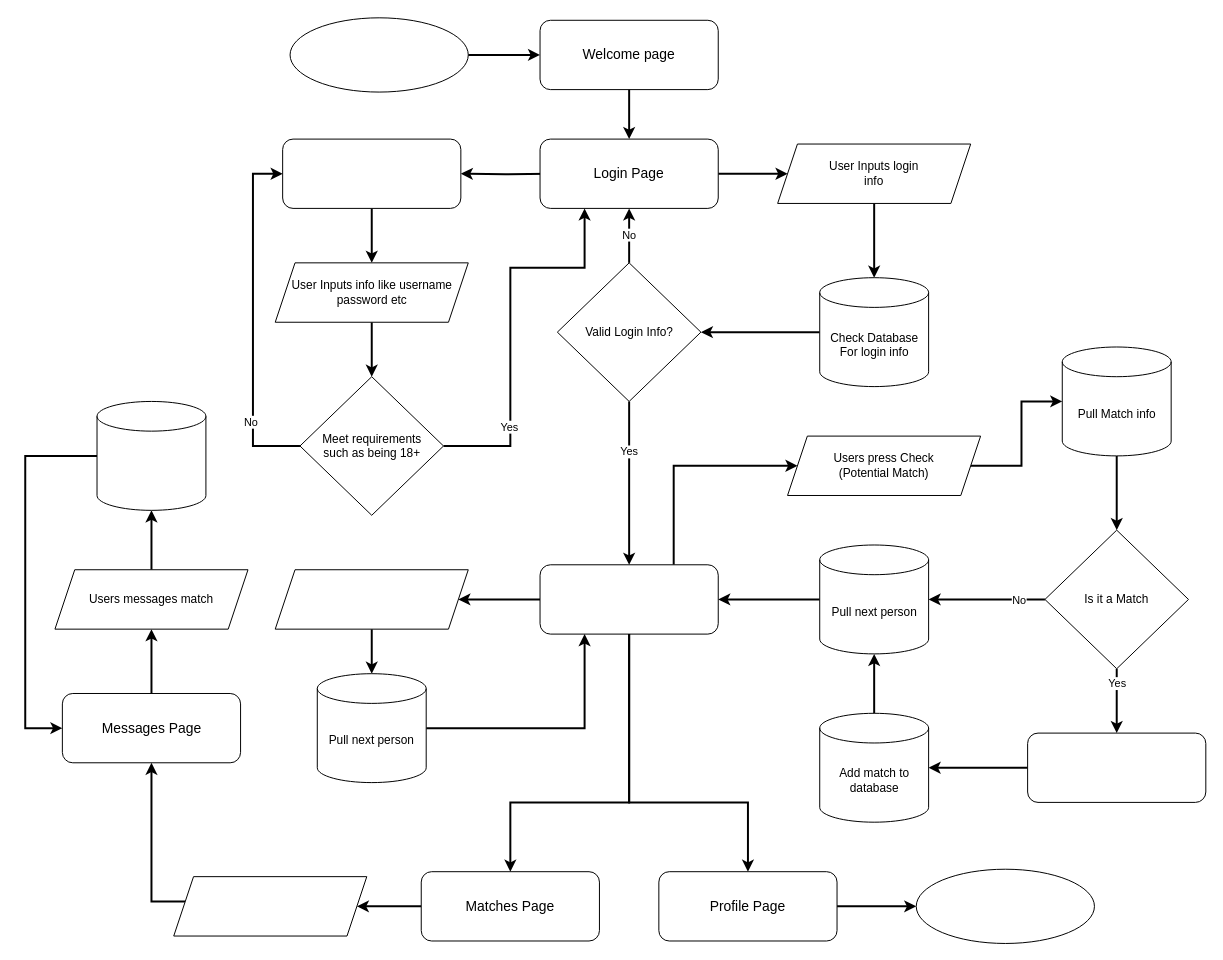
The diagram is 1223 pixels wide and 960 high, and some of its shapes have lost their labels. Here are the shapes that lost their labels. From the top down, the centre of each, then its label:
point (378, 54): Start
point (371, 173): Registration Page
point (151, 455): Add message to database
point (371, 599): Users press X (Not match)
point (628, 599): Explore Page
point (1116, 767): Tell them its a match
point (270, 906): Select a Match
point (1004, 905): Logout
